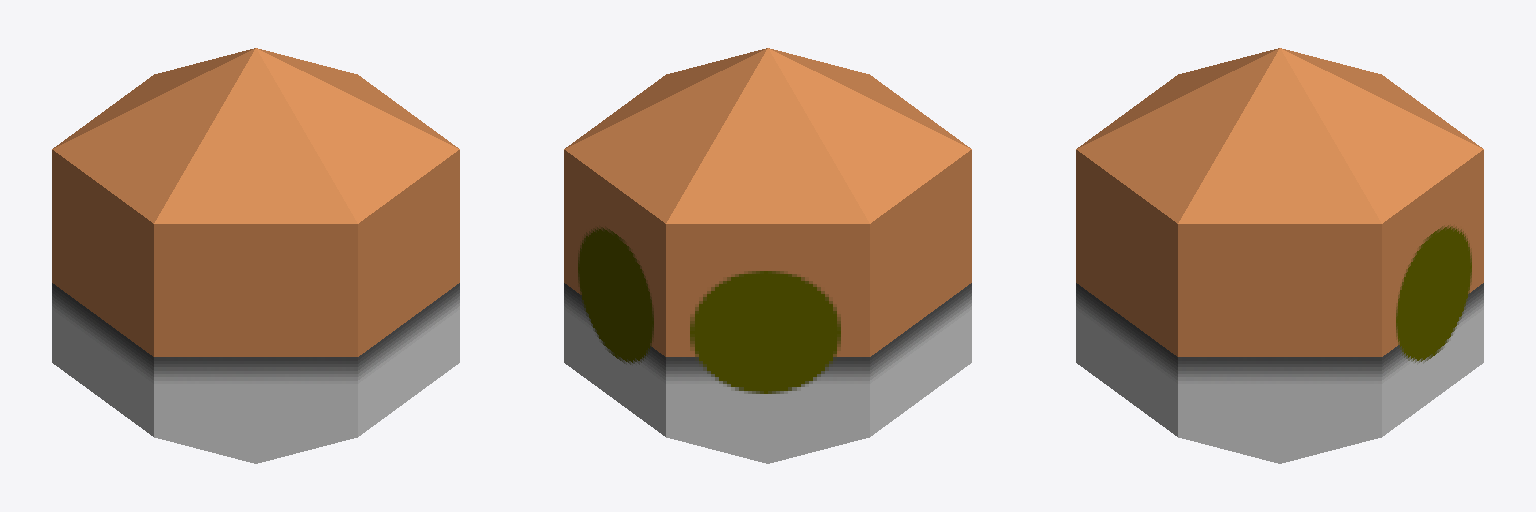
3 renders of one model, left to right at view 1: azimuth 30°, elevation 25°; view 2: azimuth 150°, elevation 25°; view 3: azimuth 270°, elevation 25°, orthographic.
Parts seen in each view (by area): view 1: detail-2; view 2: detail-2; view 3: detail-2.
Part boxes in pixels (left/top/right/bottom): detail-2: left=52, top=48, right=459, bottom=463; detail-2: left=564, top=48, right=971, bottom=463; detail-2: left=1076, top=48, right=1483, bottom=463.
Size of the model in its own units: 1.5 by 1.95 by 1.73.
1 materials, 1 textured.